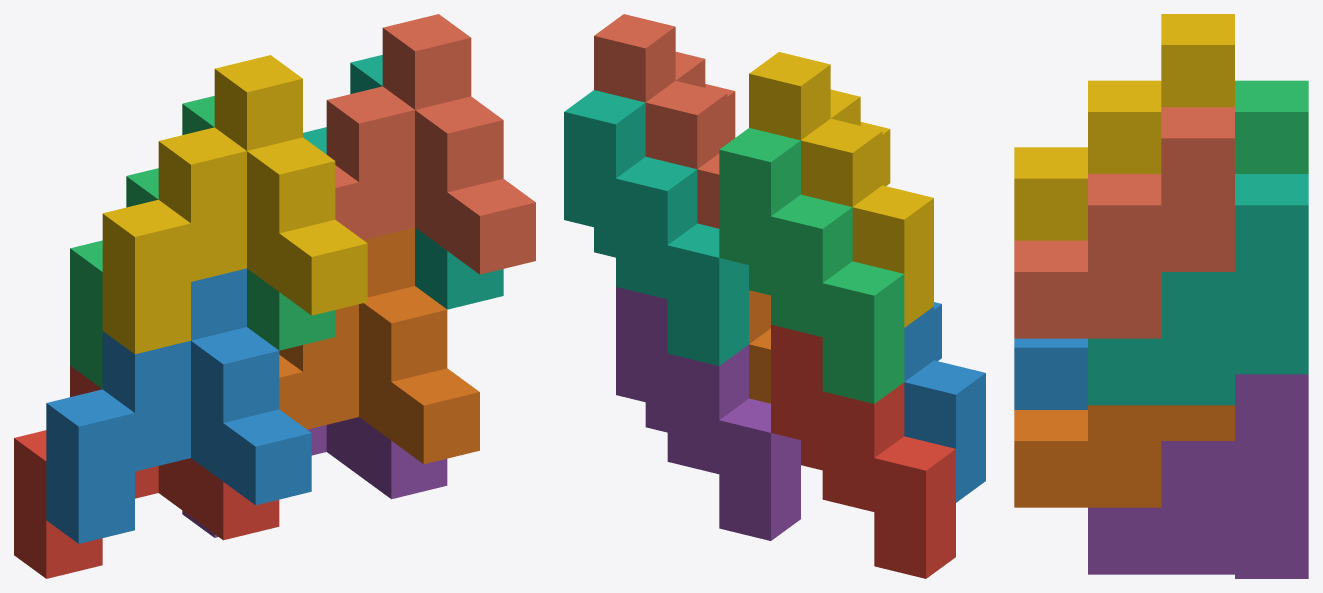
Rendered from tiling.obj.
3 renders of one model, left to right at view 1: azimuth 30°, elevation 25°; view 2: azimuth 150°, elevation 25°; view 3: azimuth 270°, elevation 25°, orthographic. The views are drawn at different scales.
Visible parts, largest first — view 1: copy_1_domain_4, copy_1_domain_2, copy_1_domain_8, copy_1_domain_6, copy_1_domain_1, copy_1_domain_3, copy_1_domain_5, copy_1_domain_7; view 2: copy_1_domain_3, copy_1_domain_7, copy_1_domain_1, copy_1_domain_5, copy_1_domain_4, copy_1_domain_8, copy_1_domain_2, copy_1_domain_6; view 3: copy_1_domain_8, copy_1_domain_5, copy_1_domain_7, copy_1_domain_4, copy_1_domain_6, copy_1_domain_3, copy_1_domain_2.
Boxes of the visible parts, x1,y1,x2,y2 form: copy_1_domain_4: (102, 55, 367, 354); copy_1_domain_2: (46, 268, 311, 543); copy_1_domain_8: (326, 14, 535, 274); copy_1_domain_6: (279, 227, 479, 464); copy_1_domain_1: (14, 366, 279, 578); copy_1_domain_3: (70, 96, 335, 388); copy_1_domain_5: (182, 417, 447, 537); copy_1_domain_7: (303, 55, 503, 309); copy_1_domain_3: (719, 128, 904, 403); copy_1_domain_7: (564, 90, 748, 365); copy_1_domain_1: (771, 324, 955, 578); copy_1_domain_5: (616, 287, 800, 540); copy_1_domain_4: (749, 52, 933, 327); copy_1_domain_8: (594, 14, 735, 228); copy_1_domain_2: (904, 302, 985, 502); copy_1_domain_6: (749, 290, 770, 403); copy_1_domain_8: (1014, 107, 1234, 338); copy_1_domain_5: (1088, 374, 1308, 578); copy_1_domain_7: (1088, 174, 1308, 405); copy_1_domain_4: (1014, 14, 1234, 240); copy_1_domain_6: (1014, 405, 1234, 507); copy_1_domain_3: (1235, 80, 1308, 173); copy_1_domain_2: (1014, 338, 1087, 409).
Bounding box in the file's own units: 7 × 8 × 4.
